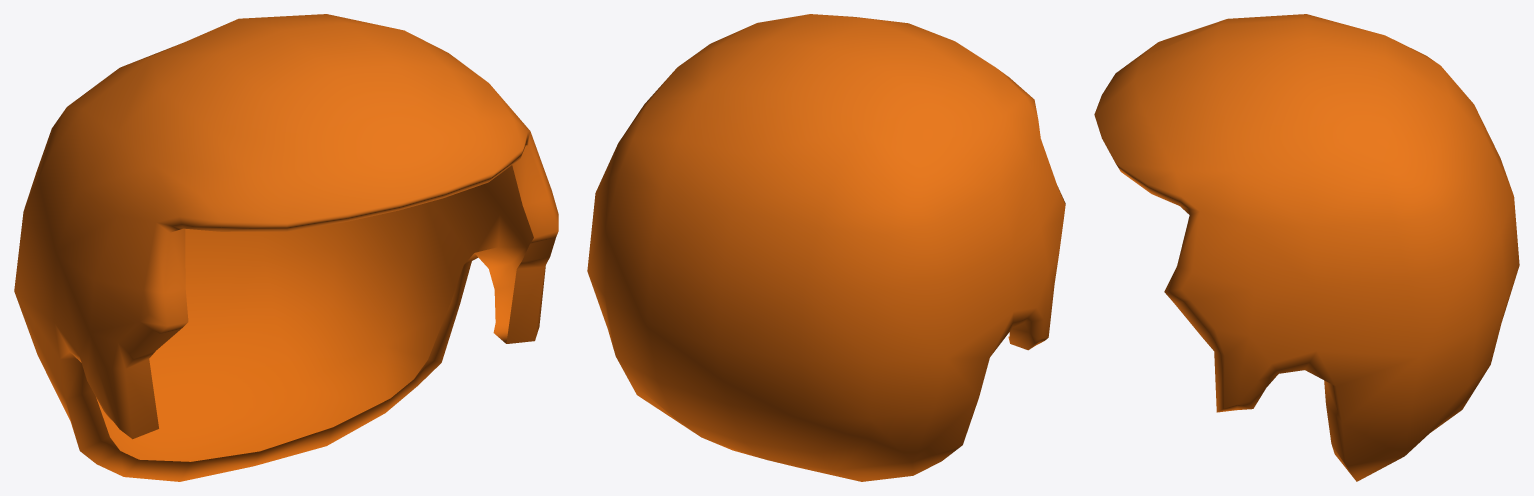
The model's file is Hair_Orange_1.fbx.
The picture shows the model from 3 angles, left to right: view 1: azimuth 30°, elevation 25°; view 2: azimuth 150°, elevation 25°; view 3: azimuth 270°, elevation 25°; orthographic projection. The views are drawn at different scales.
Visible parts, largest first — view 1: Hair_Orange_1; view 2: Hair_Orange_1; view 3: Hair_Orange_1.
Part boxes in pixels (box(x1,y1,x2,y2)): Hair_Orange_1: box(14, 14, 558, 481); Hair_Orange_1: box(587, 14, 1065, 481); Hair_Orange_1: box(1094, 14, 1519, 481).
Bounding box in the file's own units: 52.84 × 51.31 × 48.92.
